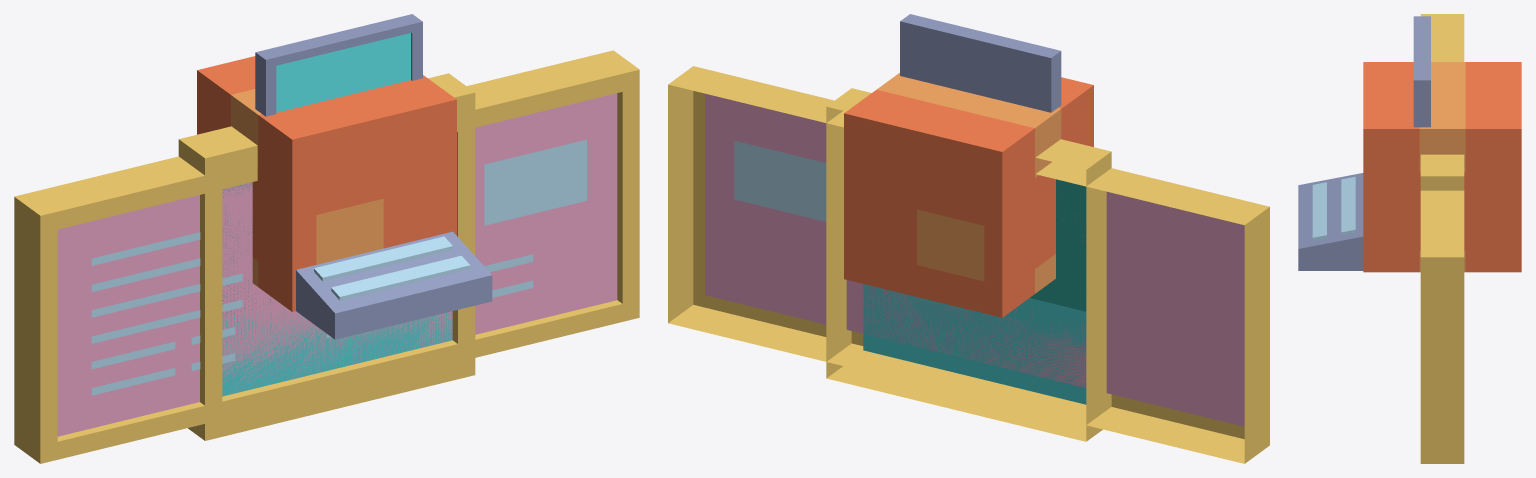
The model's file is Props.fbx.
3 views of the same model, side by side, from view 1: azimuth 30°, elevation 25°; view 2: azimuth 150°, elevation 25°; view 3: azimuth 270°, elevation 25° (orthographic). The views are drawn at different scales.
Visible parts, largest first — view 1: Food List, Cardboard Box Brown, Restaurant Painting 02, Cash Register; view 2: Food List, Cardboard Box Brown, Restaurant Painting 02, Cash Register; view 3: Cardboard Box Brown, Food List, Cash Register, Restaurant Painting 02.
Part boxes in pixels (x1,y1,x2,y2): Food List: [14, 50, 639, 463]; Cardboard Box Brown: [197, 56, 456, 311]; Restaurant Painting 02: [178, 73, 475, 440]; Cash Register: [255, 14, 492, 339]; Food List: [668, 66, 1269, 463]; Cardboard Box Brown: [844, 73, 1093, 317]; Restaurant Painting 02: [826, 88, 1111, 441]; Cash Register: [900, 14, 1061, 112]; Cardboard Box Brown: [1363, 62, 1521, 272]; Food List: [1420, 14, 1464, 463]; Cash Register: [1298, 16, 1430, 270]; Restaurant Painting 02: [1420, 154, 1464, 190].
Size of the model in its own units: 91 by 53.74 by 35.3.
